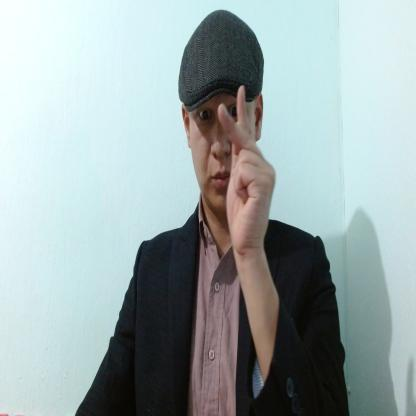P: (216, 84, 277, 257)
